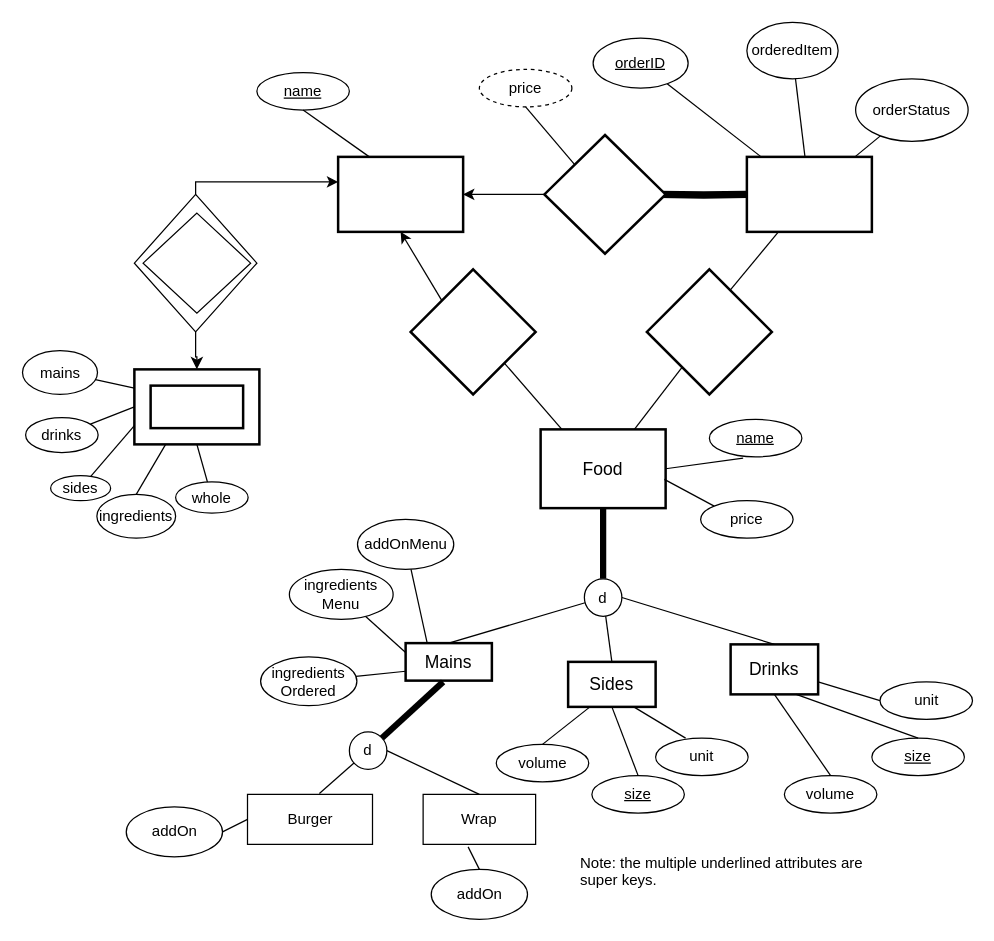
Image size: 994x941. Some labels were removed from this diagram. Here are the shapes that lost their labels. From the top down, the box of each, then its label:
(336, 155, 464, 232): Ordering System
(542, 133, 666, 254): ordered in
(745, 155, 872, 232): Orders
(142, 212, 251, 313): managed by
(409, 268, 536, 395): offered by
(645, 268, 772, 395): contains
(132, 368, 260, 445): Stock
